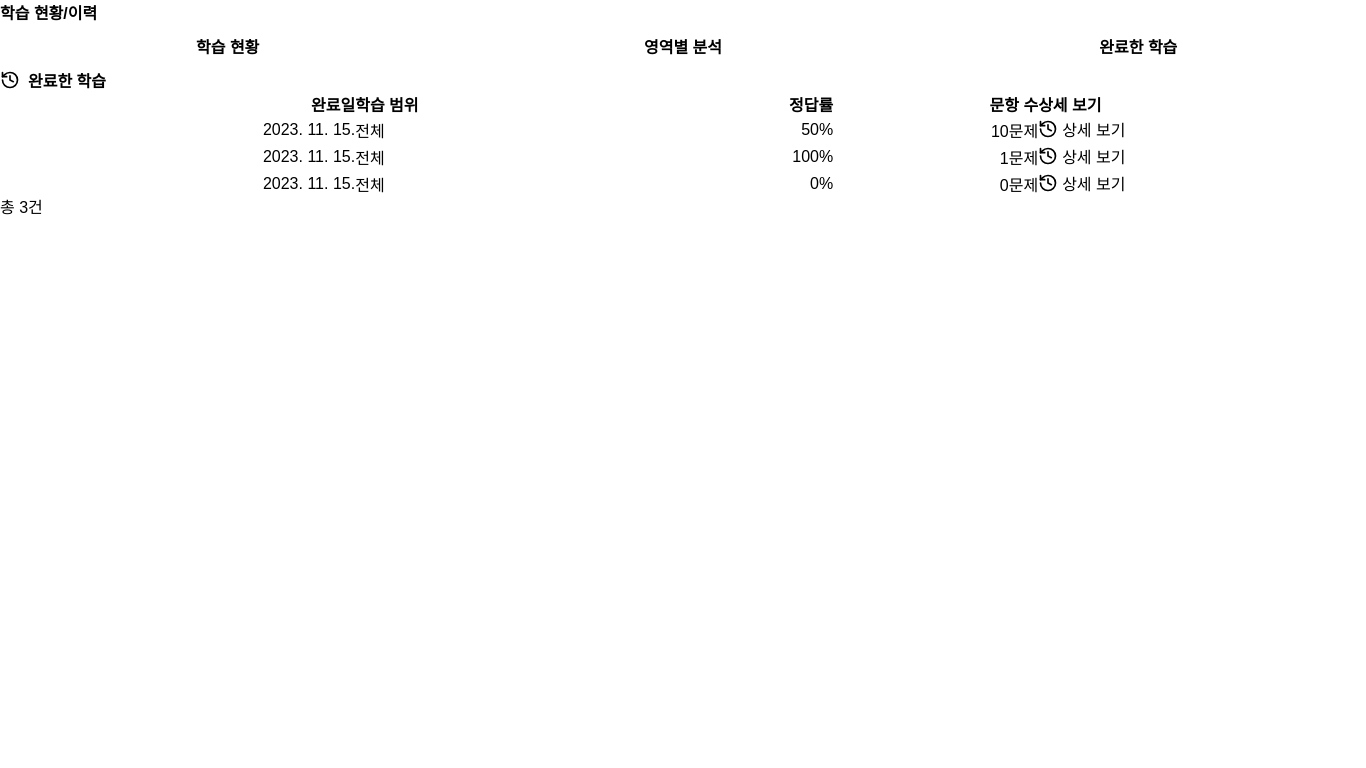
Test: 완료 목록 — 상세 진입·페이징·키보드 회귀 없음 (AC-4) › 닫기 동작으로 요약 대화상자가 사라진다
This screenshot has width=1366, height=768.
Click the button "상세 보기" in the row of "50%": (1082, 129) [1038,116,1125,142]
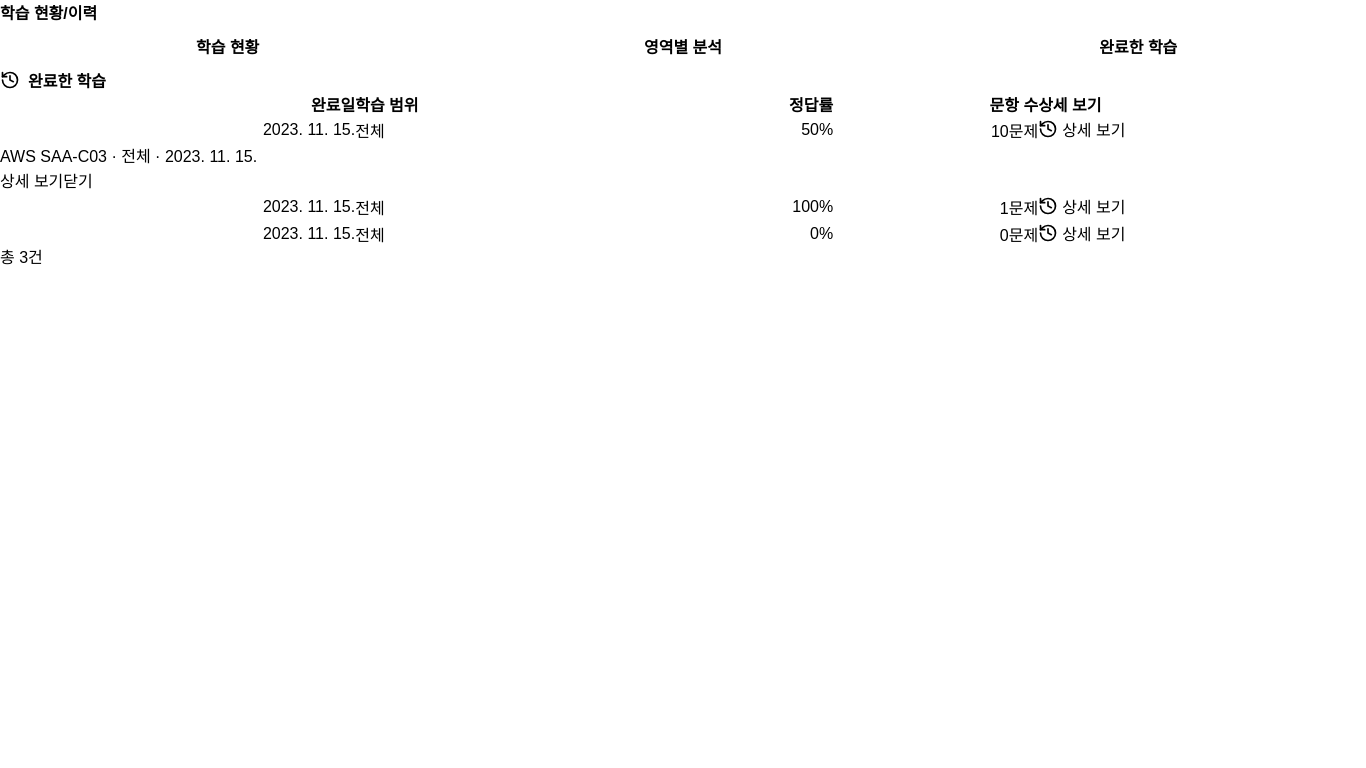
Check: the dialog is shown, box [0,148,257,193]
Click the button "닫기": (78, 180) [63,167,93,193]
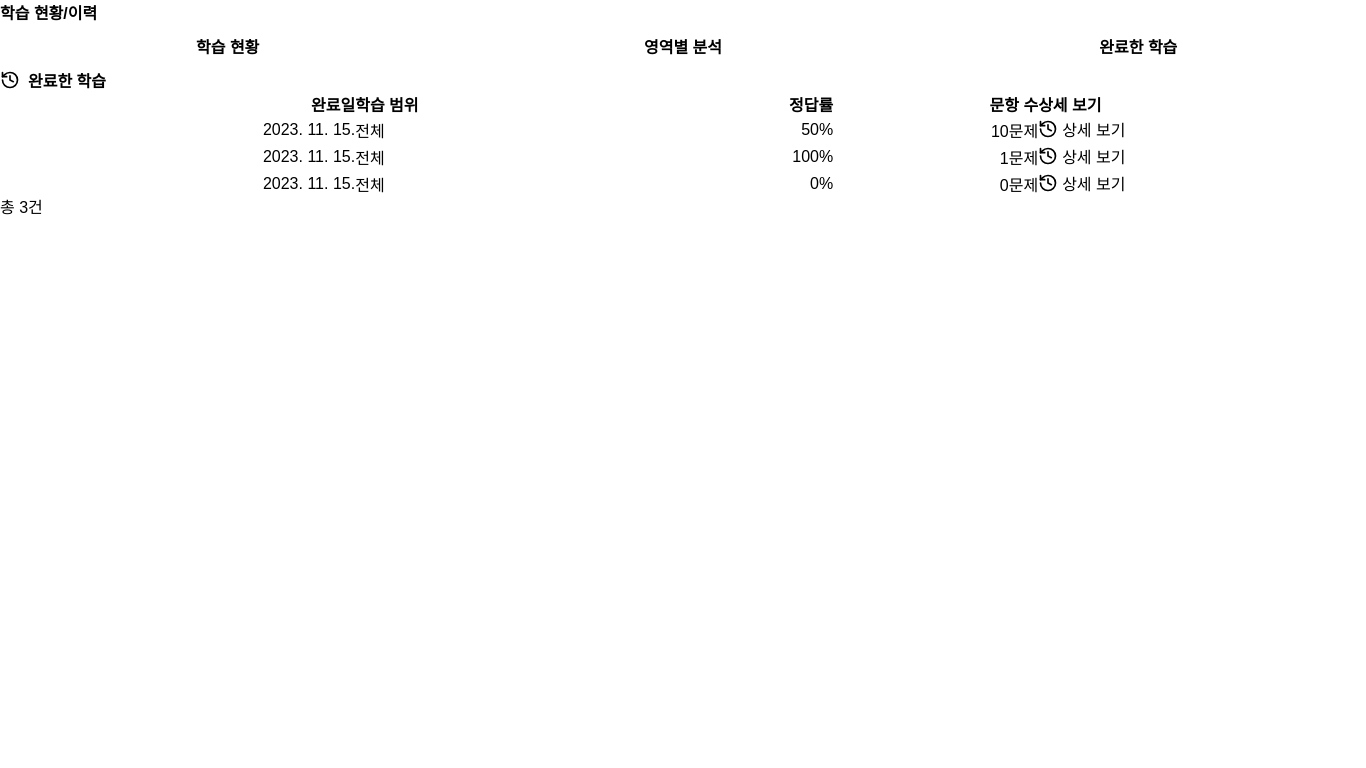
Check: the dialog is gone
